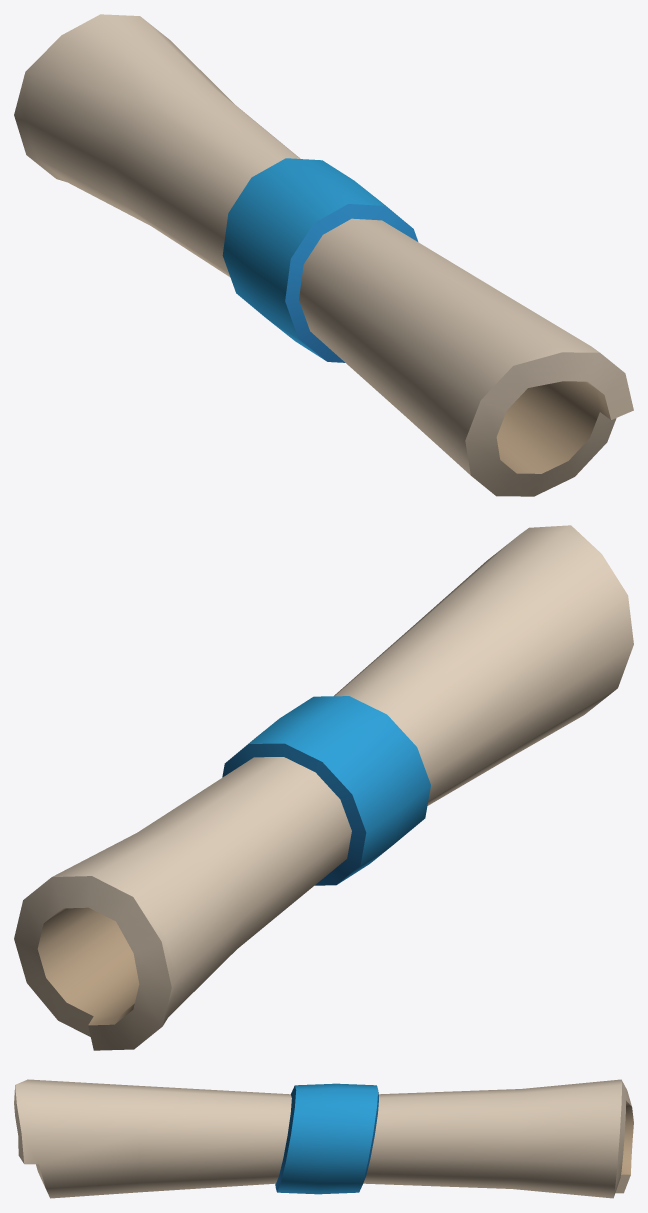
Rendered from map_rolled.fbx.
3 views of the same model, one above another, from view 1: azimuth 30°, elevation 25°; view 2: azimuth 150°, elevation 25°; view 3: azimuth 270°, elevation 25° (orthographic). The views are drawn at different scales.
Parts seen in each view (by area): view 1: map_rolled; view 2: map_rolled; view 3: map_rolled.
Boxes of the visible parts, x1,y1,x2,y2 form: map_rolled: (14,14,633,496); map_rolled: (14,525,633,1050); map_rolled: (14,1079,633,1198).
Size of the model in its own units: 23.97 by 23.81 by 122.
